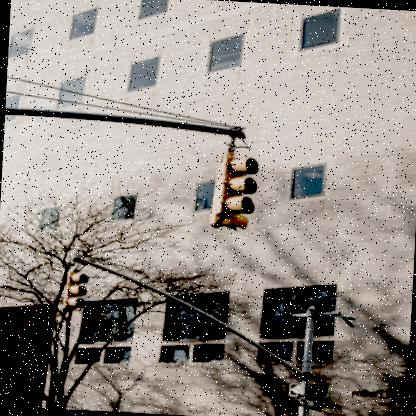trafficlight: (208, 150, 264, 230)
